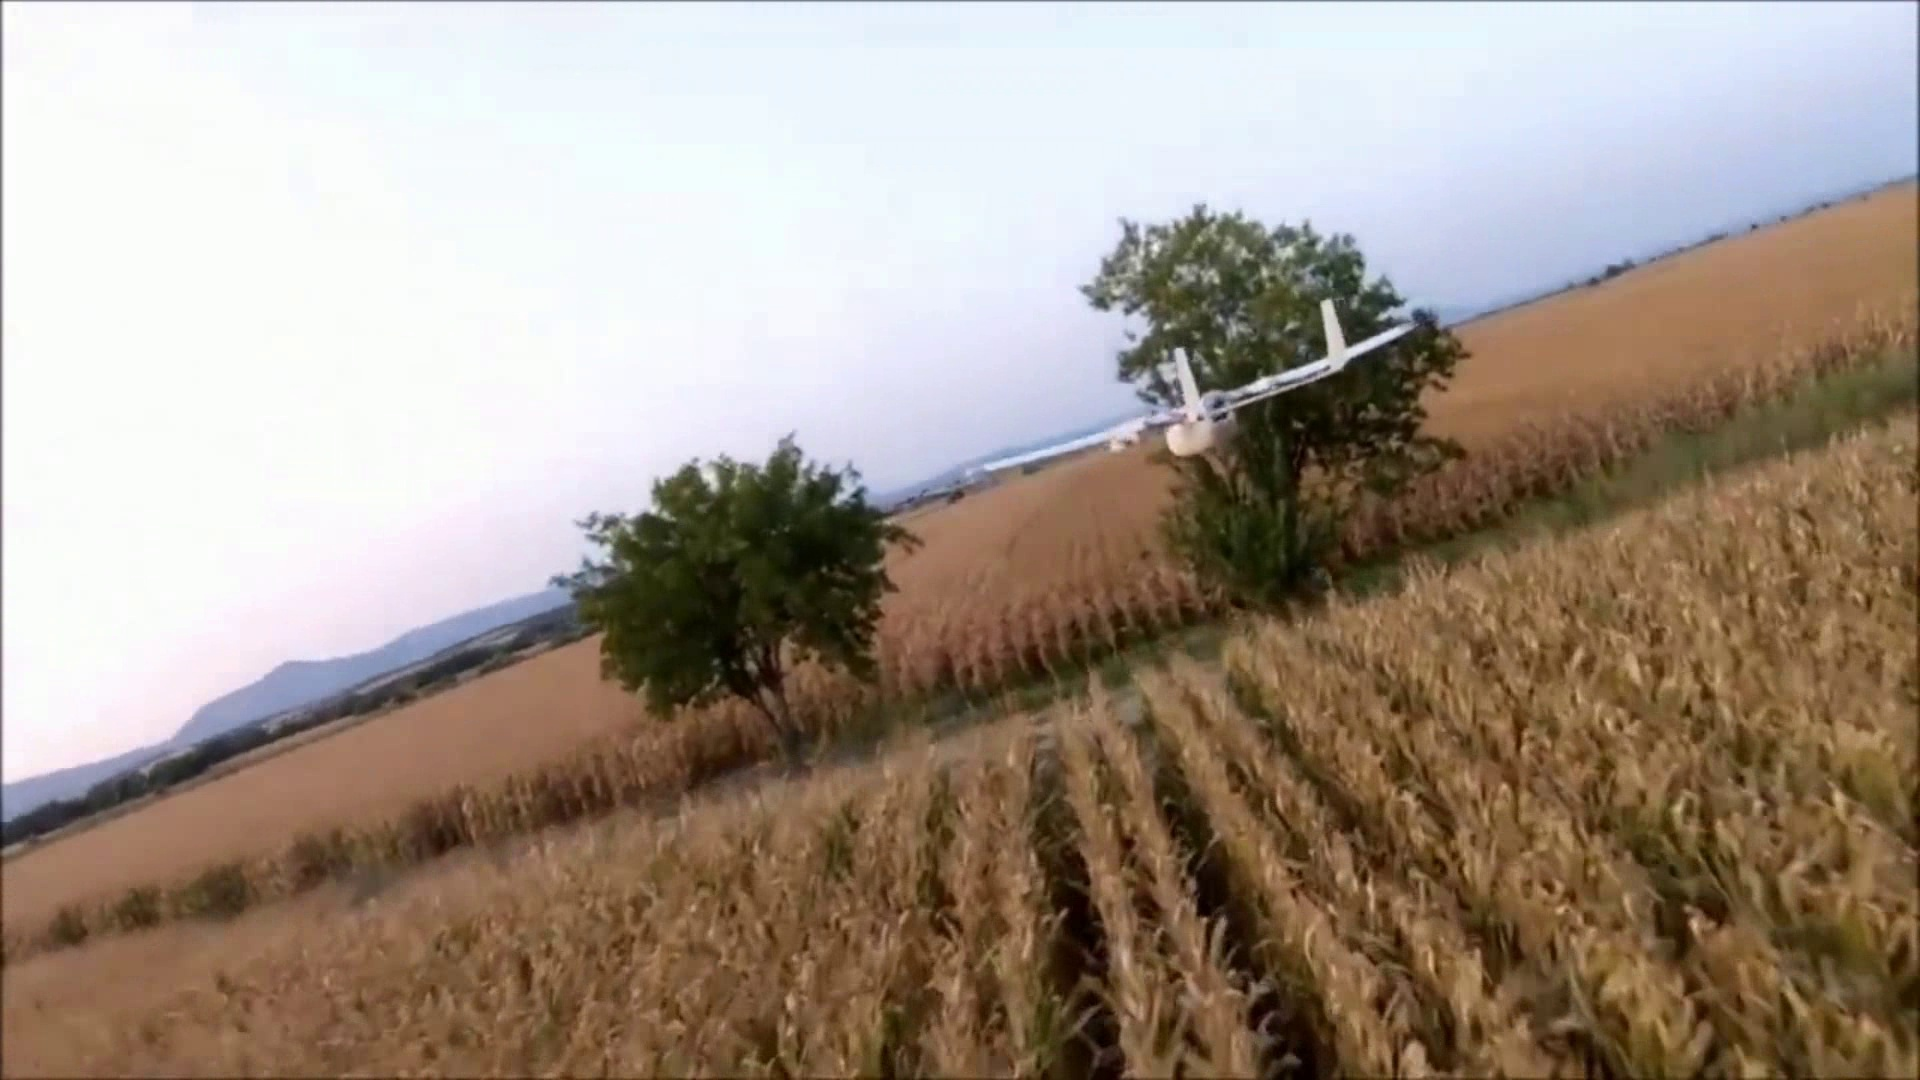airplane: (868, 297, 1447, 522)
